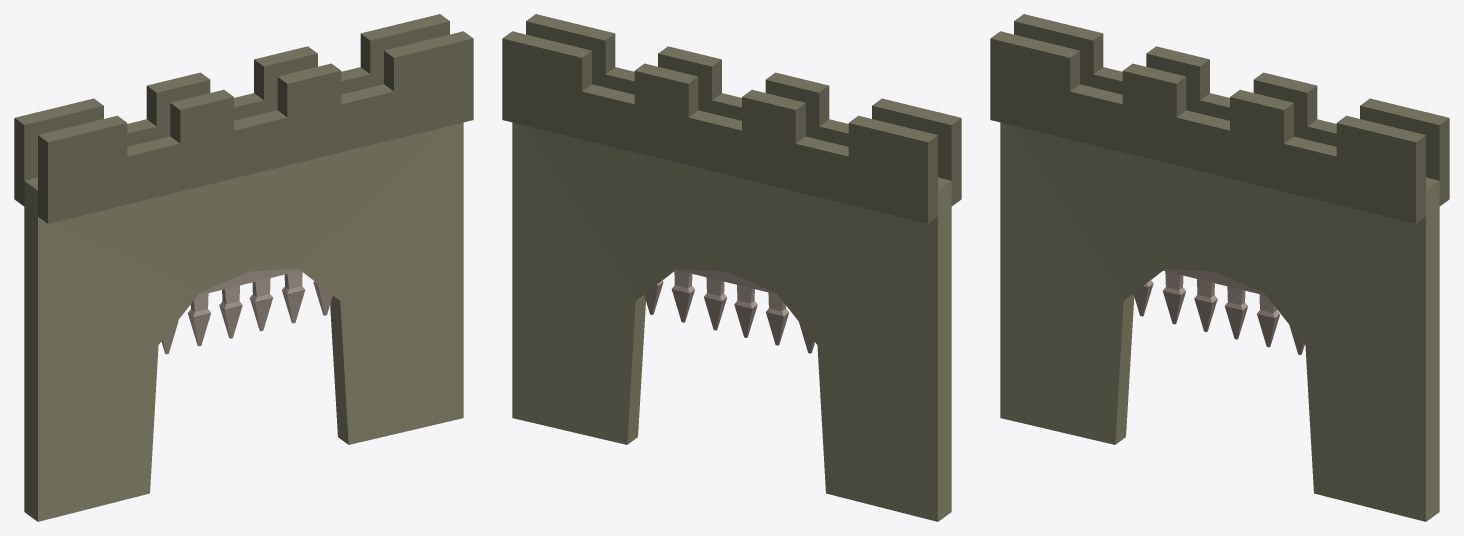
The model's file is castleGate.dae.
The picture shows the model from 3 angles, left to right: view 1: azimuth 30°, elevation 25°; view 2: azimuth 150°, elevation 25°; view 3: azimuth 330°, elevation 25°; orthographic projection.
Visible parts, largest first — view 1: wall.001, gate; view 2: wall.001, gate; view 3: wall.001, gate.
Boxes of the visible parts, x1,y1,x2,y2 form: wall.001: (14, 14, 473, 521); gate: (161, 269, 332, 354); wall.001: (502, 14, 961, 521); gate: (644, 269, 814, 353); wall.001: (990, 14, 1449, 521); gate: (1133, 269, 1304, 354).
Bounding box in the file's own units: 15.93 × 2.17 × 13.84.
